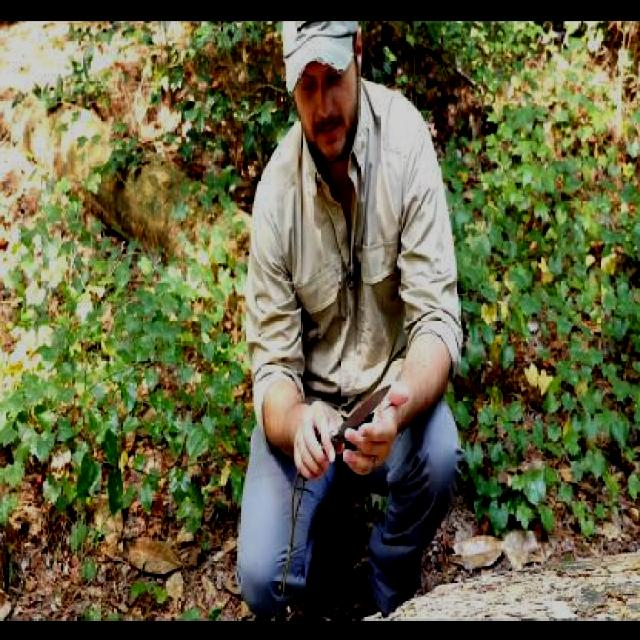knife: (292, 377, 397, 485)
